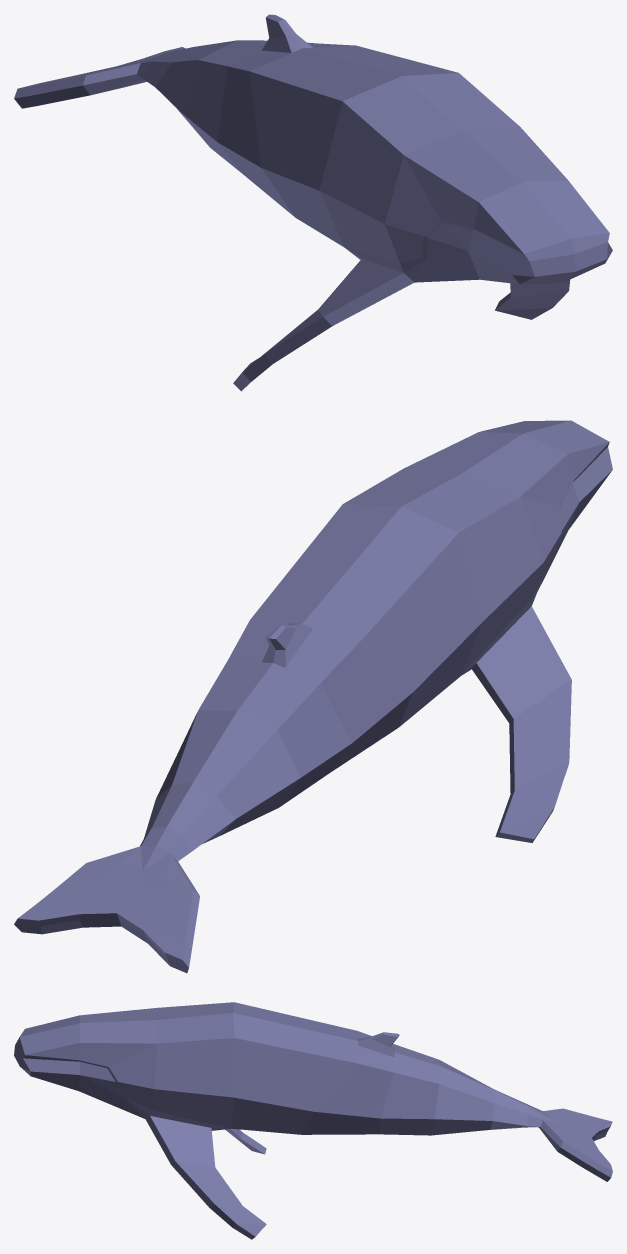
File: Whale.fbx
3 views of the same model, one above another, from view 1: azimuth 30°, elevation 25°; view 2: azimuth 150°, elevation 25°; view 3: azimuth 270°, elevation 25° (orthographic). The views are drawn at different scales.
Parts seen in each view (by area): view 1: Whale; view 2: Whale; view 3: Whale.
Part boxes in pixels (bbox=[...]): Whale: bbox=[14, 14, 612, 391]; Whale: bbox=[14, 420, 612, 973]; Whale: bbox=[14, 1002, 612, 1239].
Bounding box in the file's own units: 380 × 337 × 1001.
